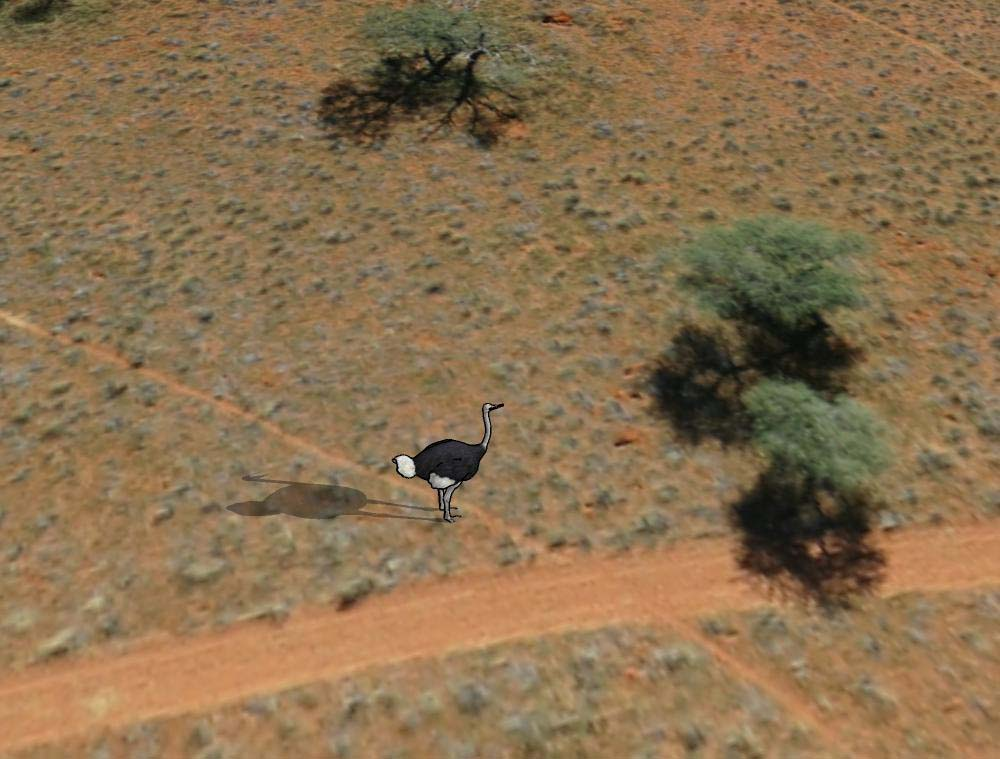ostrich: (391, 396, 516, 525)
